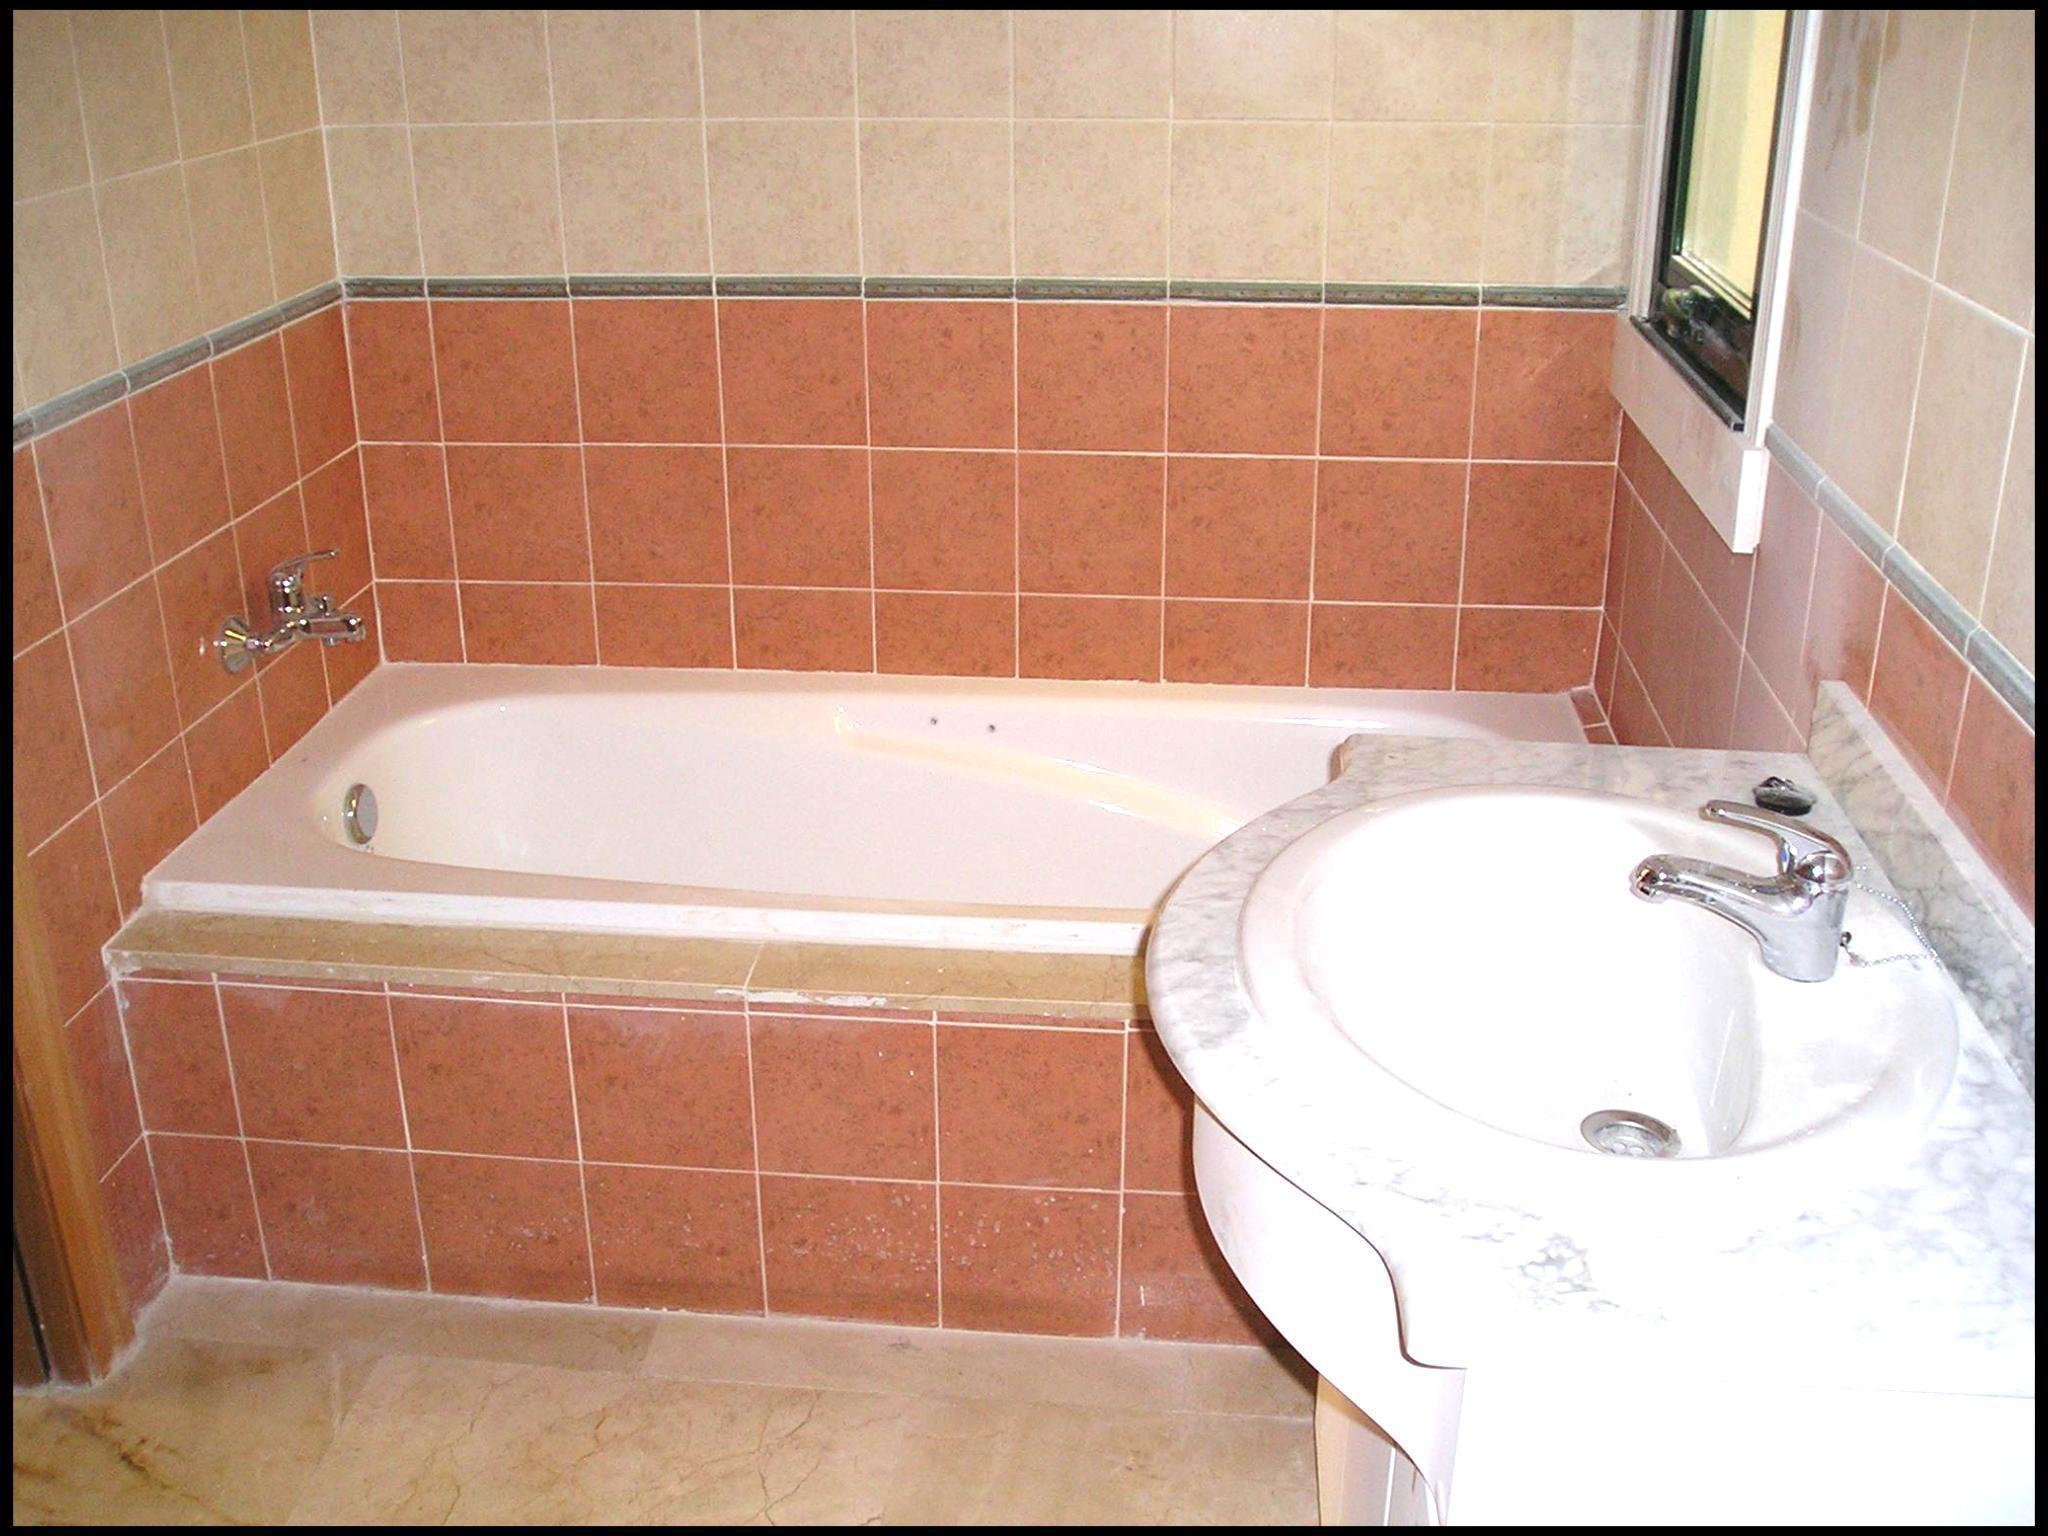Lavamanos: (1206, 758, 2025, 1509)
